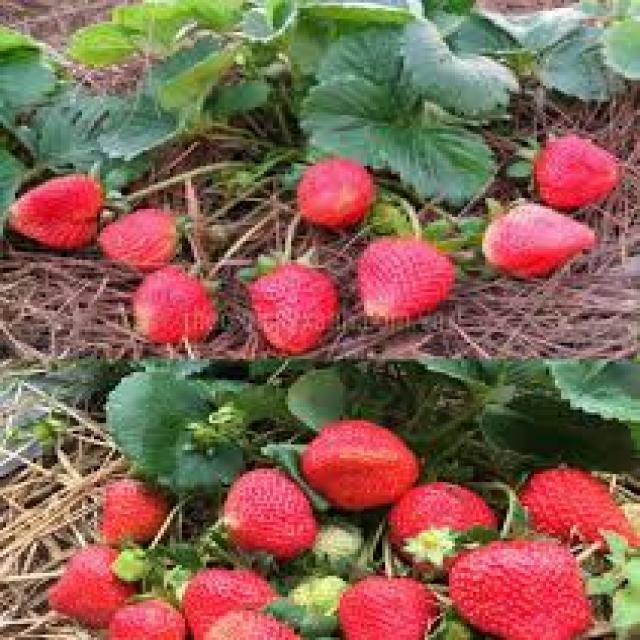Fruta sana: (441, 530, 596, 636), (517, 455, 640, 558), (301, 414, 425, 511), (382, 468, 493, 564), (222, 453, 322, 559), (485, 198, 605, 273), (358, 233, 461, 320), (248, 260, 342, 354), (0, 177, 103, 254), (50, 542, 144, 620), (120, 271, 220, 341), (346, 564, 432, 640), (95, 205, 194, 270), (182, 568, 287, 628), (534, 143, 617, 214), (297, 162, 380, 228), (95, 475, 176, 541), (107, 589, 186, 640)
